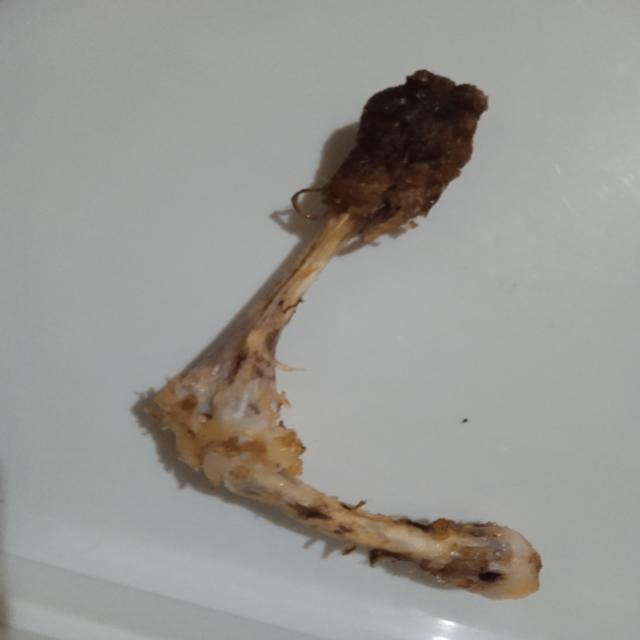bone: (132, 61, 552, 605)
